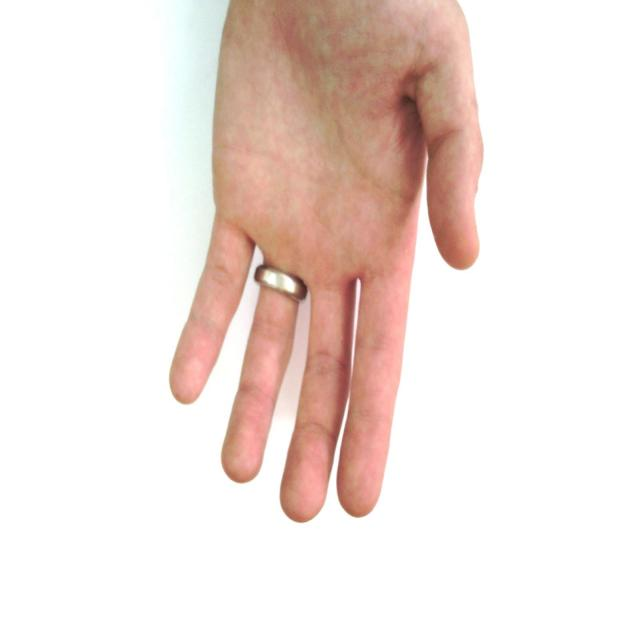others: (156, 1, 508, 528)
